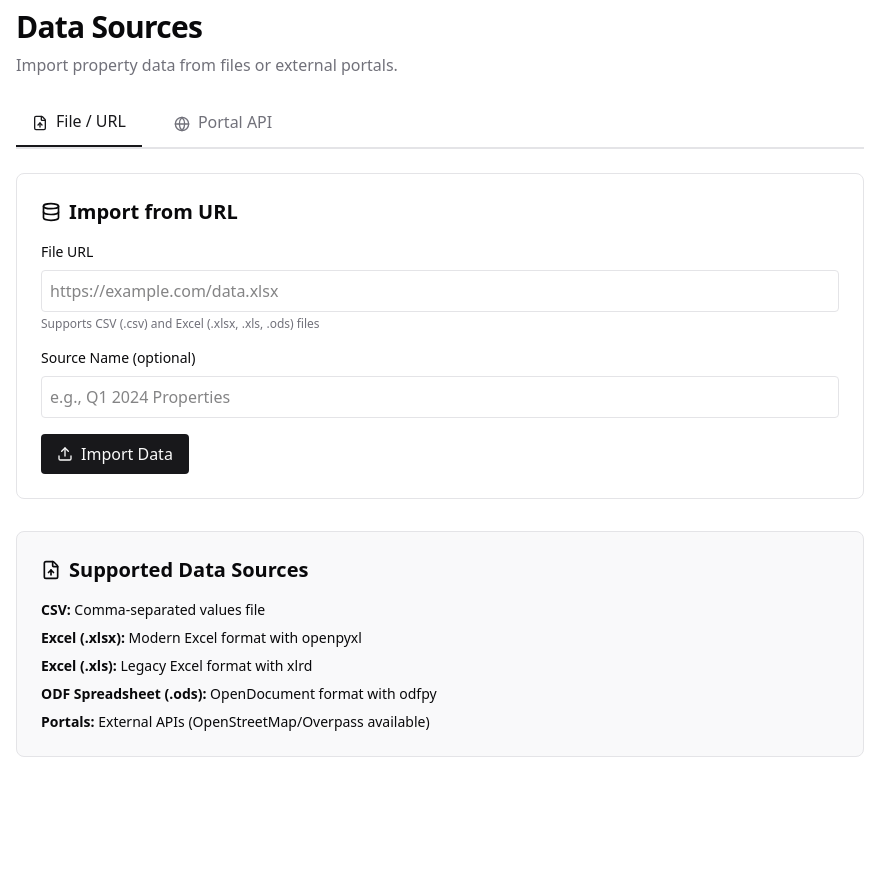
Test case: DataSourcesPage › ingests CSV from URL
Type "https://example.com/data.csv" into the field labelled "File URL" at (440, 291), box [41,270,839,312]
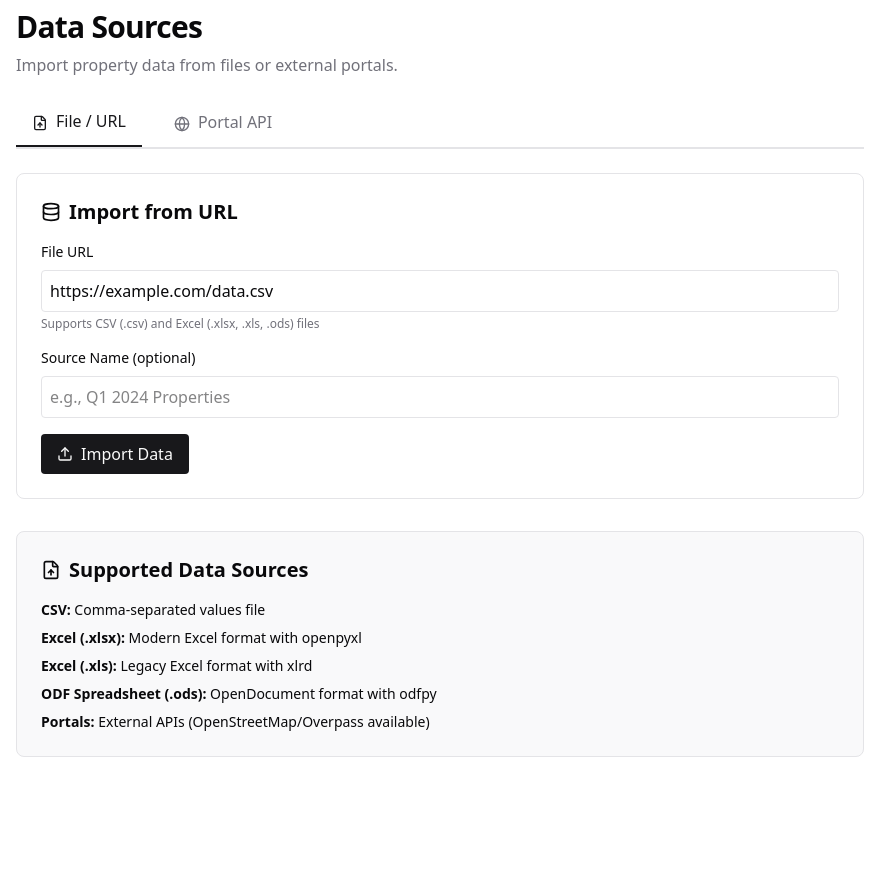
Type "Q1 Imports" into the field labelled "Source Name" at (440, 397), box [41,376,839,418]
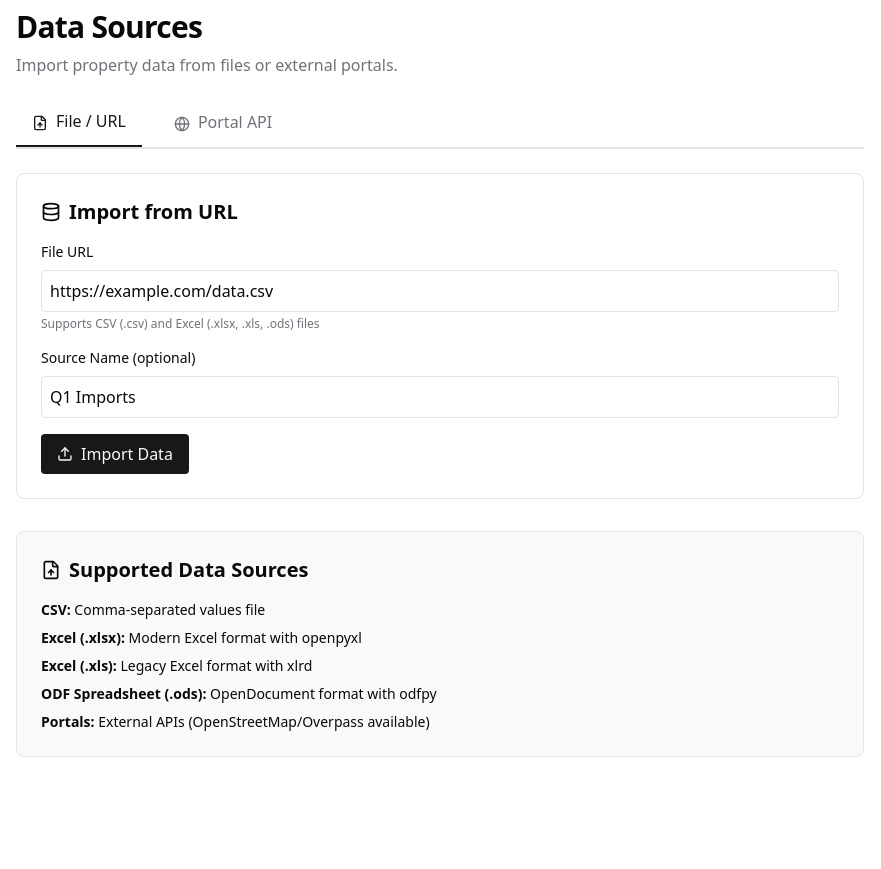
Click the button "Import Data" at (115, 454), box [41,434,189,474]
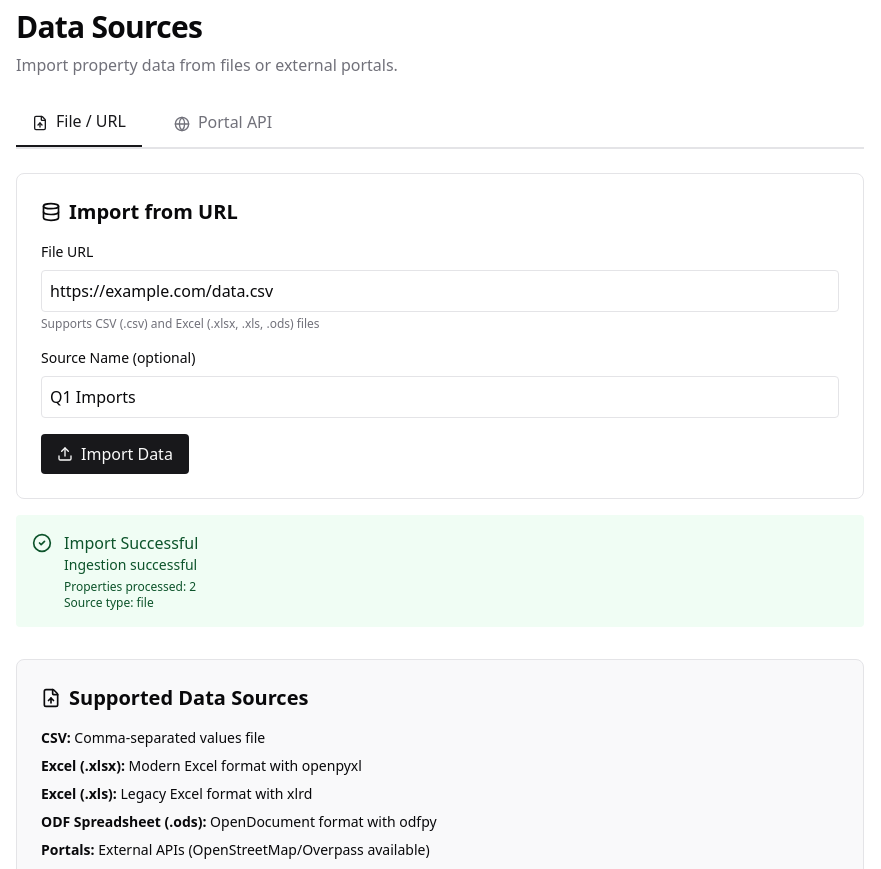
expect the text "Ingestion successful" is shown: met, box [64,555,198,575]
